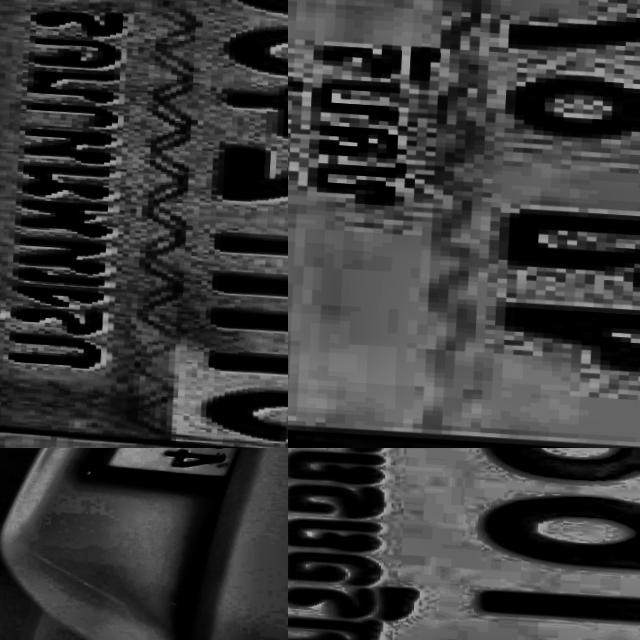license-plate: (288, 0, 640, 448), (0, 0, 288, 448), (288, 448, 640, 640), (66, 448, 288, 501)
